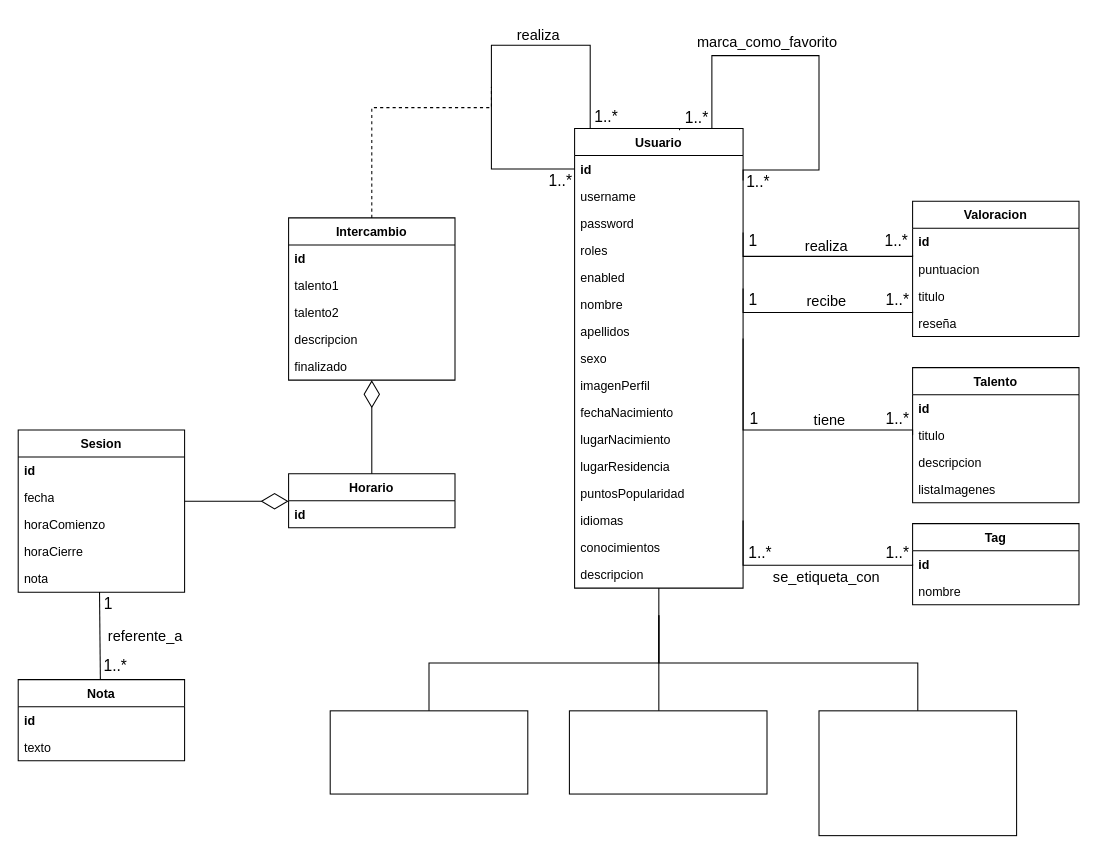
Some shapes in this 1097 by 854 pixel diagram are drawn without their labels. The centre of each missing label's shape, as x and y in pixels:
"<<Enumeration>> Provincias ALAVA ALBACETE ALICANTE ALMERIA ..." belongs at [917,773].
"<<Enumeration>> Sexo HOMBRE MUJER" belongs at [667,752].
"<<Enumeration>> UserRole USER ADMIN" belongs at [428,752].
